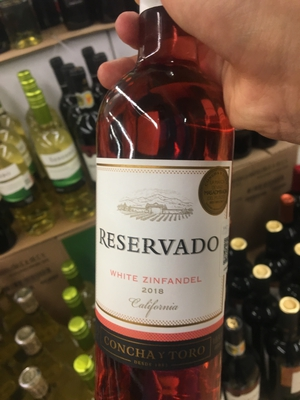reservado white zinfandel: (82, 13, 238, 400)
